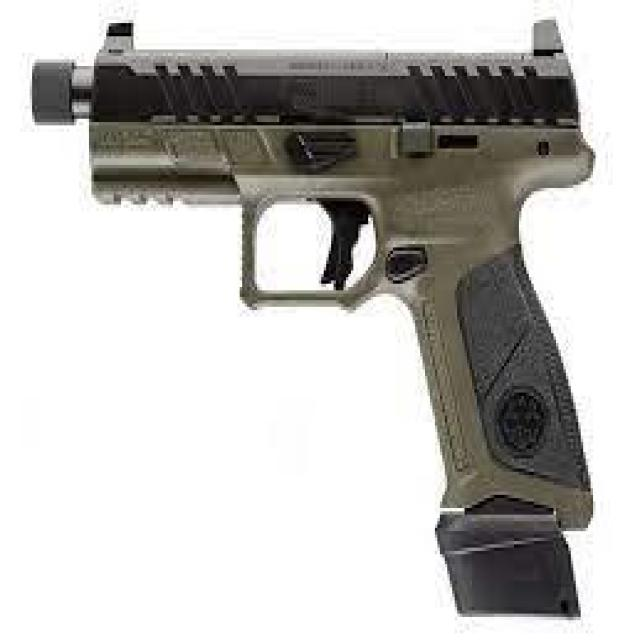gun: (32, 20, 596, 617)
